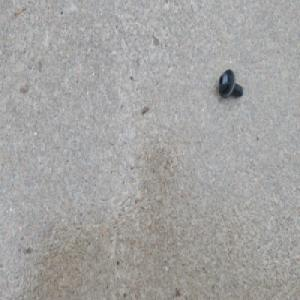BoltWasher: (217, 70, 244, 102)
